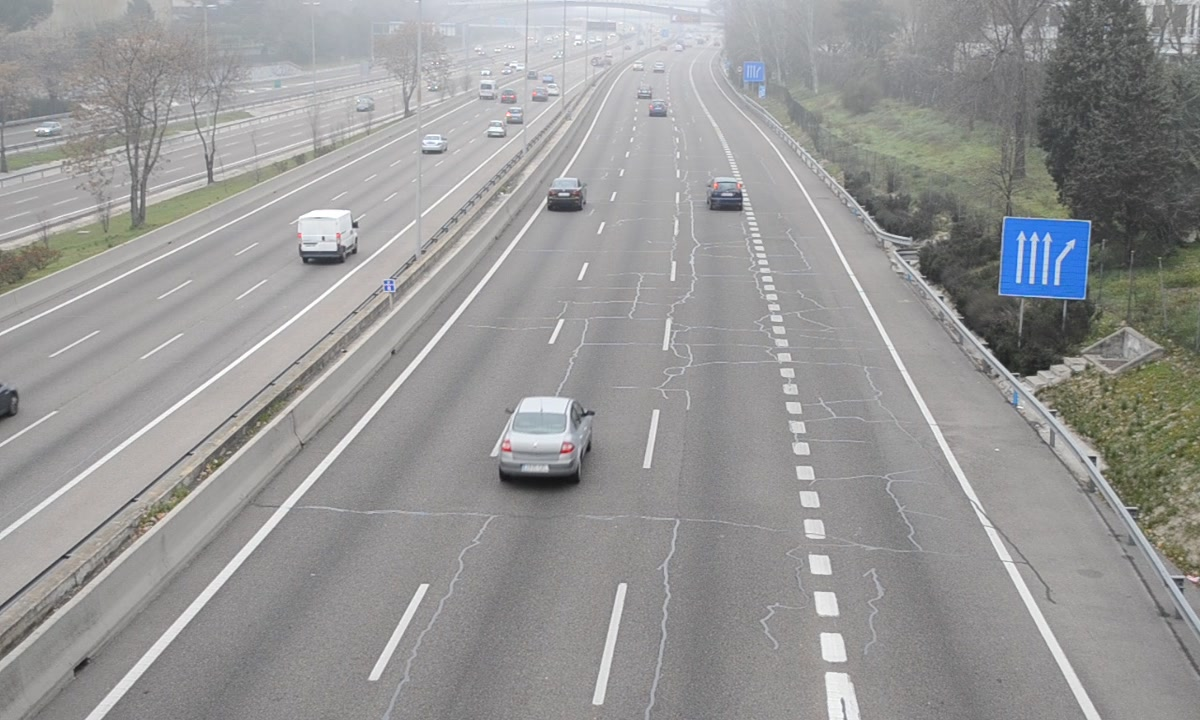car: (498, 396, 588, 480), (707, 177, 745, 211), (547, 176, 585, 209)
